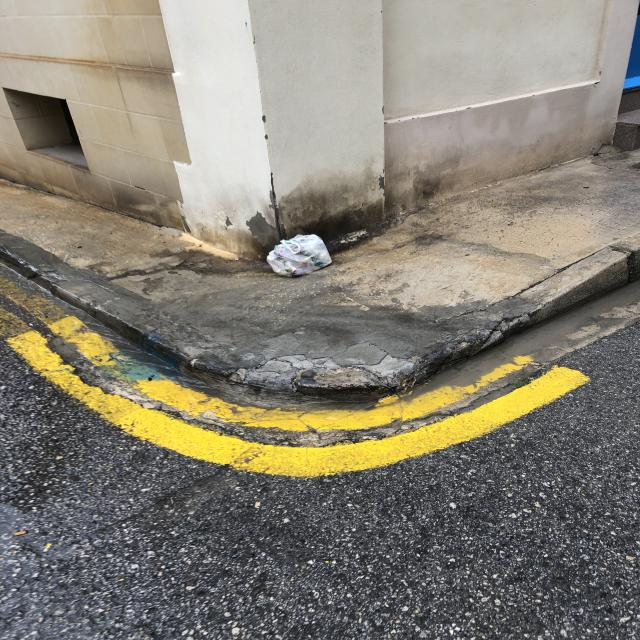Organic Waste -White Bag-: (267, 230, 333, 279)
